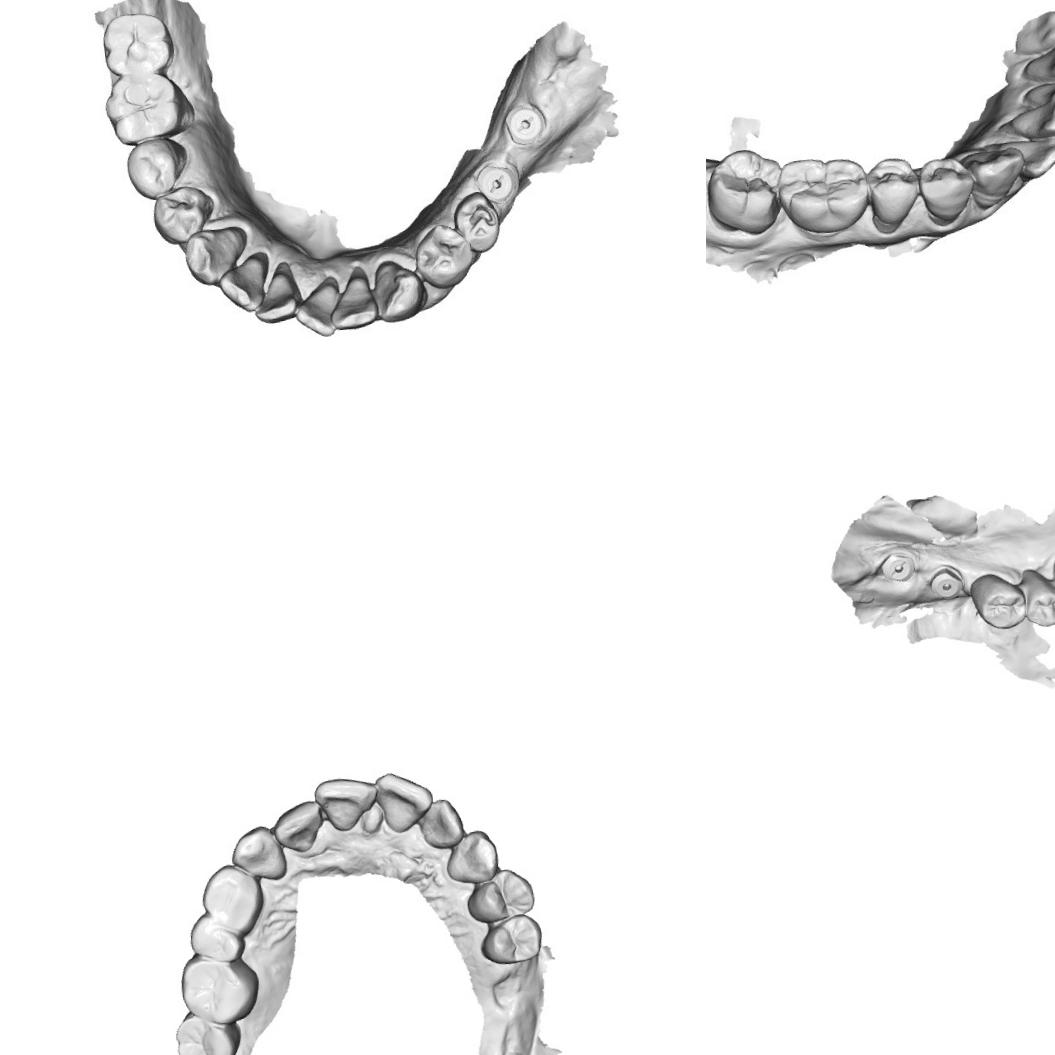canine: (176, 224, 256, 286), (226, 820, 288, 886), (968, 141, 1030, 206), (374, 256, 432, 322), (442, 828, 500, 888)
implant: (926, 560, 970, 604)
implant_minus: (490, 98, 552, 151), (474, 156, 523, 205), (877, 548, 919, 586)
incisor: (371, 764, 436, 838), (312, 773, 380, 836), (327, 264, 382, 326), (292, 270, 342, 336), (251, 260, 304, 322), (269, 798, 326, 855), (216, 252, 270, 311), (416, 796, 468, 854), (1006, 127, 1055, 180), (1012, 97, 1055, 143), (1022, 36, 1055, 84), (1024, 70, 1055, 109)
molar: (706, 147, 787, 247), (775, 150, 868, 233), (176, 946, 264, 1028), (100, 71, 182, 143), (101, 11, 172, 76), (171, 1006, 245, 1055)
premolar: (197, 860, 268, 938), (462, 865, 538, 926), (150, 181, 220, 247), (124, 134, 192, 196), (966, 568, 1028, 634), (476, 911, 545, 968), (415, 226, 482, 284), (186, 909, 248, 968), (918, 153, 975, 217), (868, 152, 922, 214), (455, 190, 505, 252), (1019, 571, 1055, 630)
